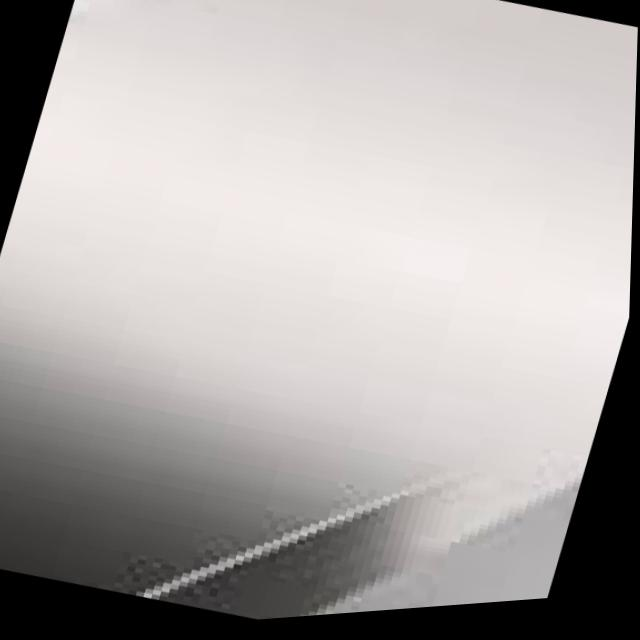metal-plates: (1, 1, 639, 625)
